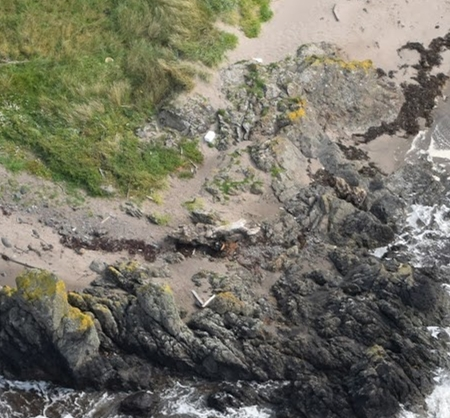scattered_barrel: (152, 118, 264, 310)
